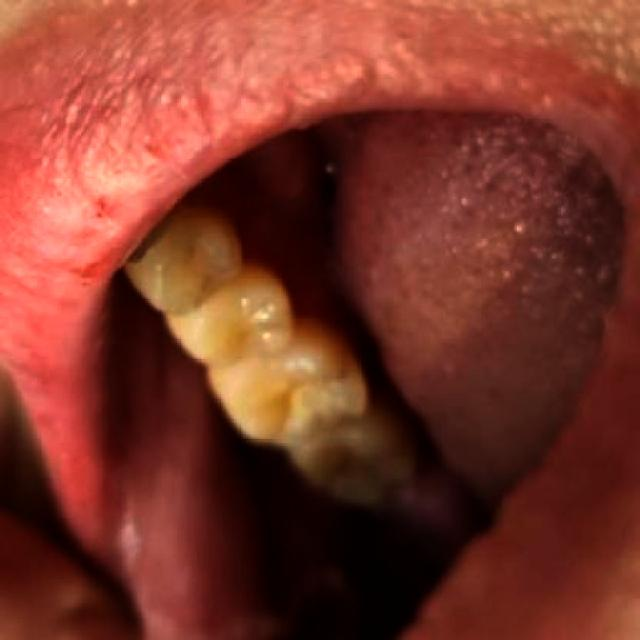Plaque: (326, 359, 351, 393)
